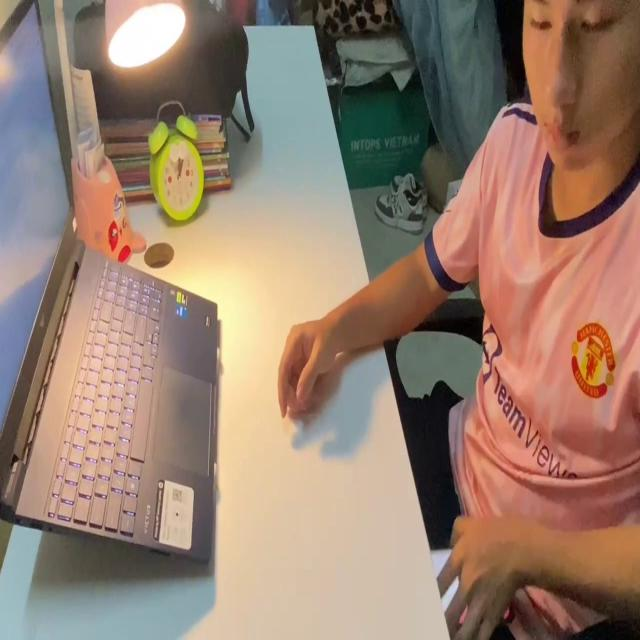laptop: (0, 2, 224, 566)
phone: (430, 533, 474, 628)
student: (270, 0, 640, 640)
